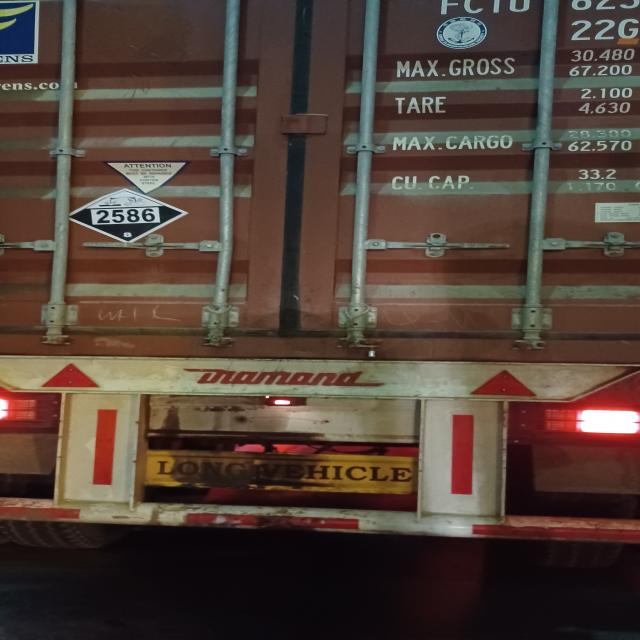seal: (359, 339, 387, 357)
